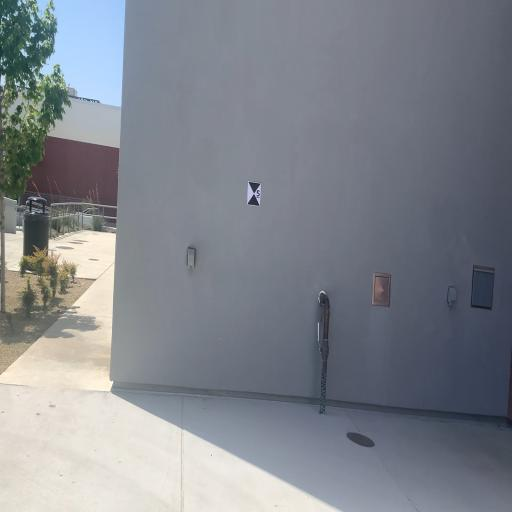target5: (247, 180, 261, 207)
